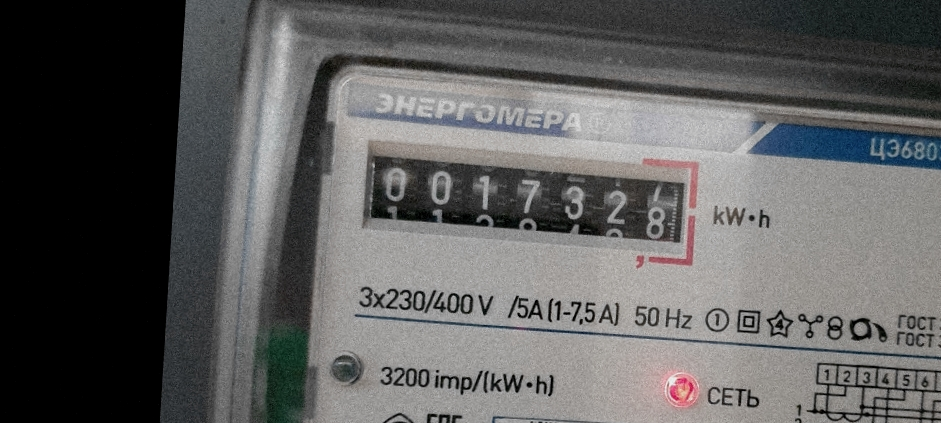0: (381, 163, 409, 205), (429, 168, 454, 207)
1: (473, 172, 494, 212)
2: (604, 188, 629, 226)
3: (563, 184, 587, 221)
7: (518, 176, 542, 216)
8: (645, 203, 665, 240)
screen: (350, 137, 710, 274)
